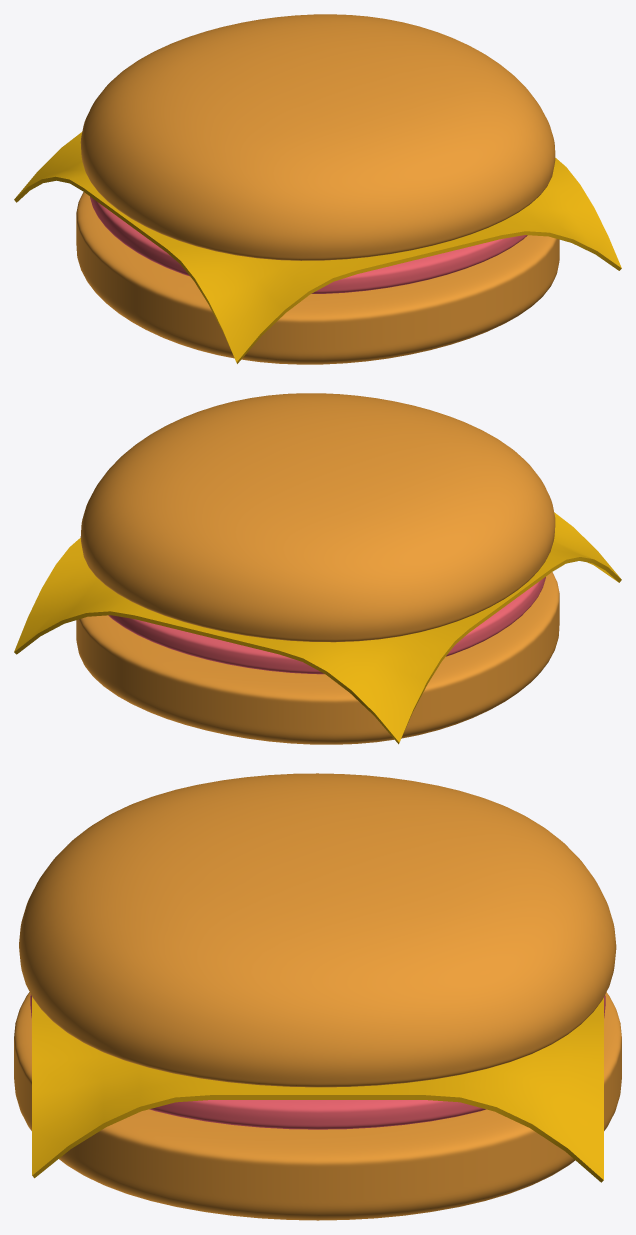
File: hamburger.glb
3 views of the same model, one above another, from view 1: azimuth 30°, elevation 25°; view 2: azimuth 150°, elevation 25°; view 3: azimuth 270°, elevation 25° (orthographic). The views are drawn at different scales.
Visible parts, largest first — view 1: Cube.002, Cube, 平面, Cube.001; view 2: Cube.002, Cube, 平面, Cube.001; view 3: Cube.002, Cube, 平面, Cube.001.
Part boxes in pixels (x1,y1,x2,y2): Cube.002: [80, 14, 555, 260]; Cube: [76, 192, 559, 364]; 平面: [14, 132, 621, 363]; Cube.001: [90, 196, 527, 293]; Cube.002: [80, 393, 555, 642]; Cube: [76, 572, 559, 744]; 平面: [14, 512, 621, 744]; Cube.001: [108, 577, 545, 674]; Cube.002: [19, 773, 616, 1087]; Cube: [14, 992, 621, 1220]; 平面: [32, 997, 603, 1182]; Cube.001: [30, 994, 605, 1129].
Bounding box in the file's own units: 9.17 × 4.61 × 9.17.
